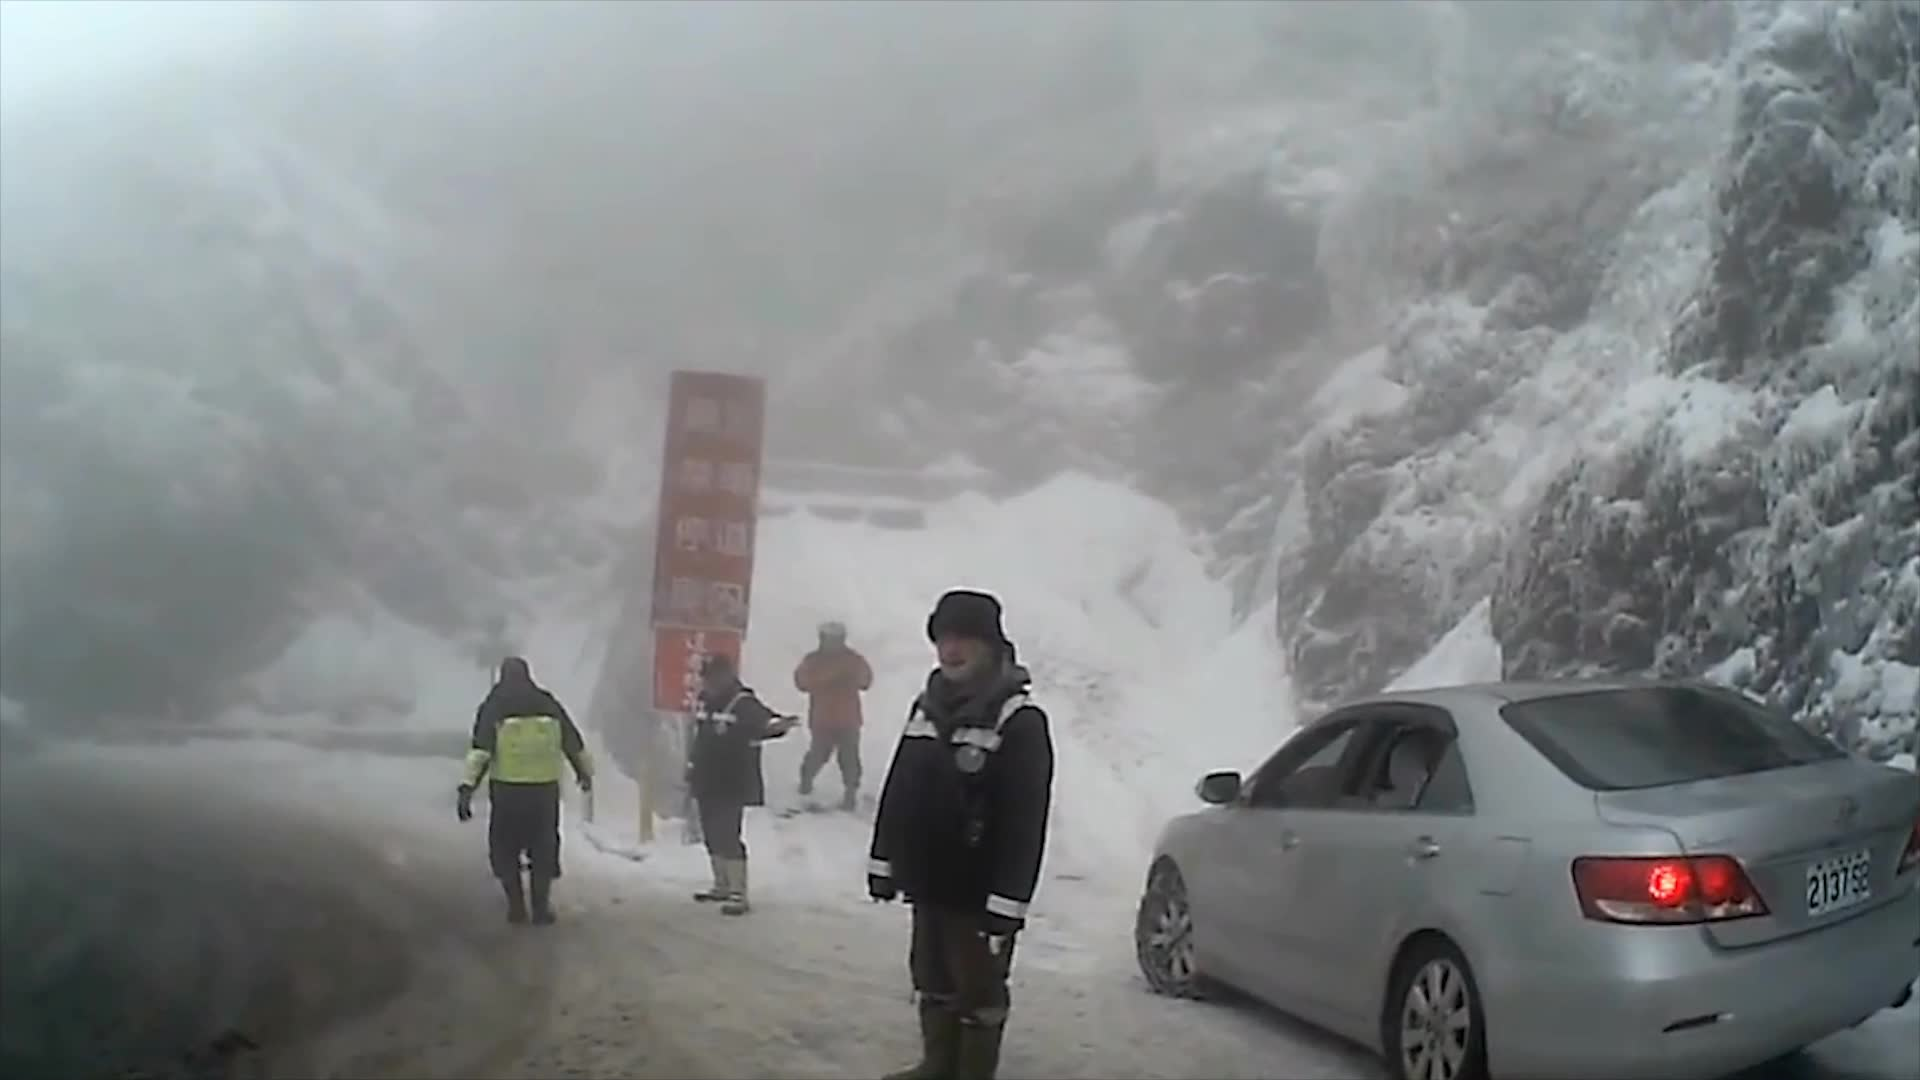pedestrian: (857, 577, 1047, 1080), (457, 663, 590, 929), (685, 650, 795, 912), (795, 617, 869, 814)
vehicle: (1127, 679, 1920, 1080)
